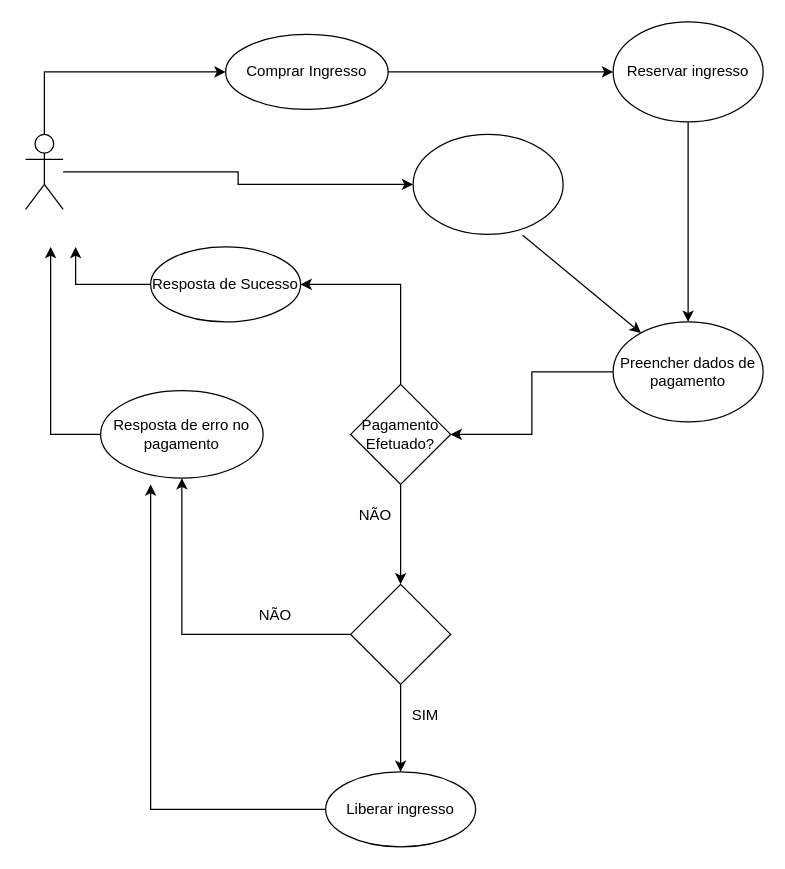
Image size: 785x869. Some labels were removed from this diagram. Here are the shapes that lost their labels. From the top down, the centre of each, then its label:
At (43,171): "Cliente".
At (487,183): "Mudar forma de pagamento".
At (400,633): "Terceira tentativa".
